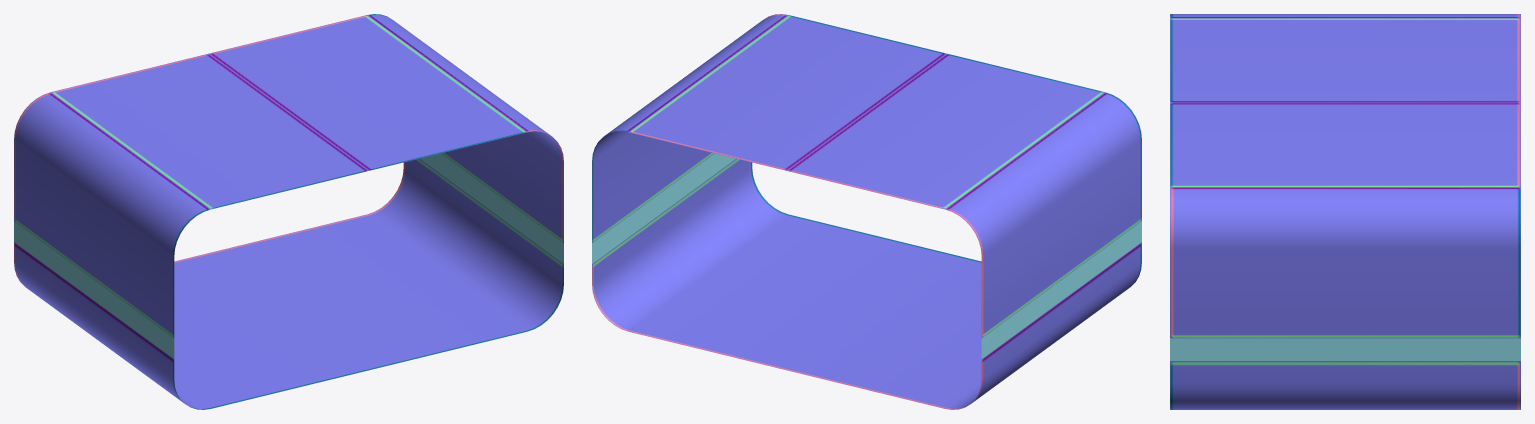
File: Corridor_01.FBX
3 renders of one model, left to right at view 1: azimuth 30°, elevation 25°; view 2: azimuth 150°, elevation 25°; view 3: azimuth 270°, elevation 25°, orthographic. The views are drawn at different scales.
Parts seen in each view (by area): view 1: Corridor_01, Neon_01; view 2: Corridor_01, Neon_01; view 3: Corridor_01, Neon_01.
Boxes of the visible parts, x1=… form: Corridor_01: x1=14, y1=14, x2=563, y2=409; Neon_01: x1=14, y1=153, x2=563, y2=358; Corridor_01: x1=592, y1=14, x2=1141, y2=409; Neon_01: x1=592, y1=153, x2=1141, y2=358; Corridor_01: x1=1170, y1=14, x2=1520, y2=409; Neon_01: x1=1170, y1=338, x2=1520, y2=360.
Size of the model in its own units: 9.82 by 4.8 by 7.
2 materials, 1 textured.
